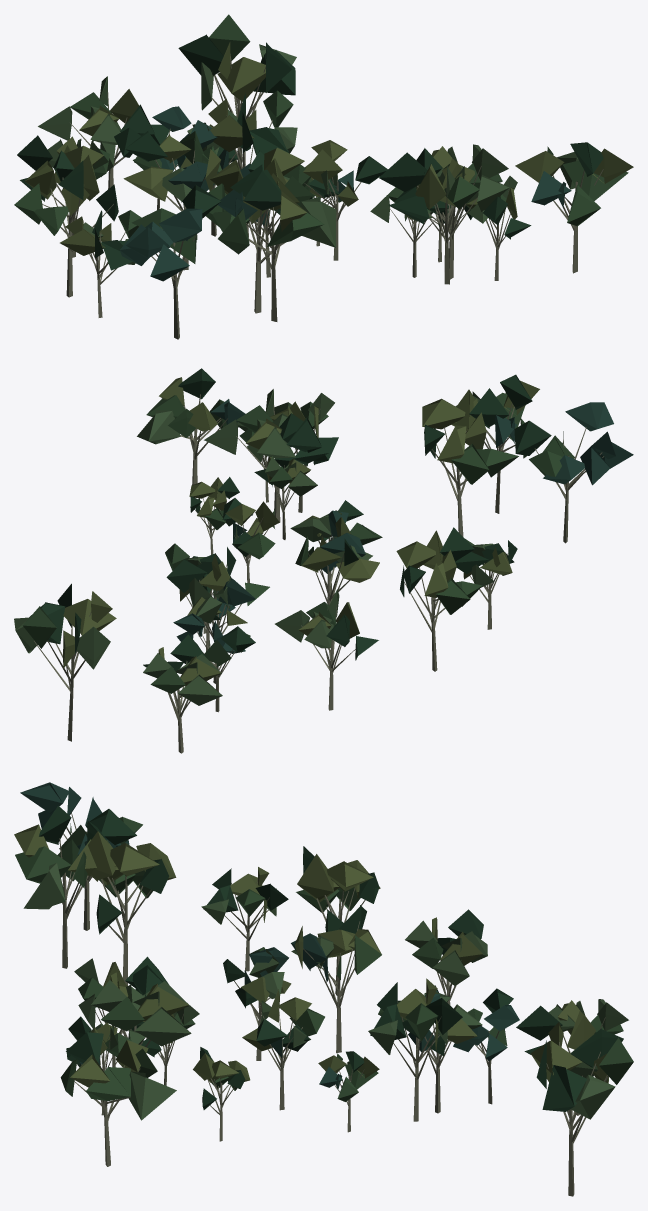
The model's file is forest_20_26.dae.
3 views of the same model, one above another, from view 1: azimuth 30°, elevation 25°; view 2: azimuth 150°, elevation 25°; view 3: azimuth 270°, elevation 25° (orthographic). The views are drawn at different scales.
Parts seen in each view (by area): view 1: Node; view 2: Node; view 3: Node.
Part boxes in pixels (x1=…): Node: x1=14, y1=14, x2=633, y2=339; Node: x1=14, y1=368, x2=633, y2=753; Node: x1=14, y1=782, x2=633, y2=1196.
Bounding box in the file's own units: 10.74 × 11.52 × 5.63.
